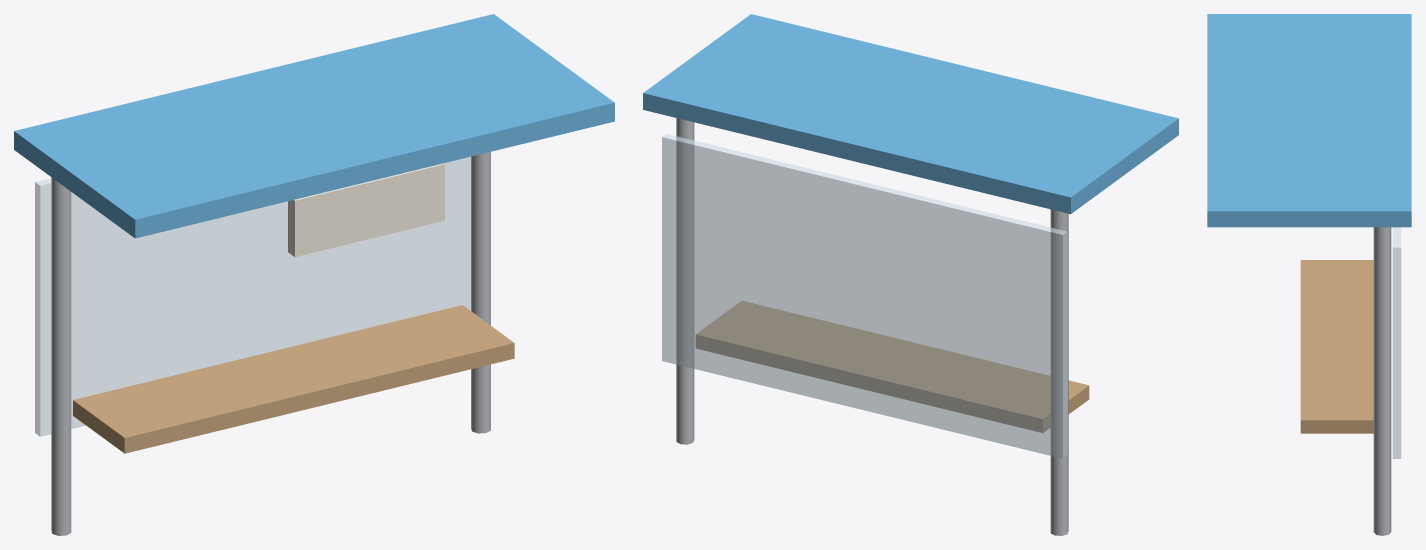
The model's file is halte.glb.
3 renders of one model, left to right at view 1: azimuth 30°, elevation 25°; view 2: azimuth 150°, elevation 25°; view 3: azimuth 270°, elevation 25°, orthographic. The views are drawn at different scales.
Parts seen in each view (by area): view 1: halte; view 2: halte; view 3: halte.
Part boxes in pixels (left/top/right/bottom): halte: left=14, top=14, right=614, bottom=535; halte: left=643, top=14, right=1178, bottom=535; halte: left=1207, top=14, right=1411, bottom=535.
Size of the model in its own units: 1.6 by 1.26 by 0.7.
